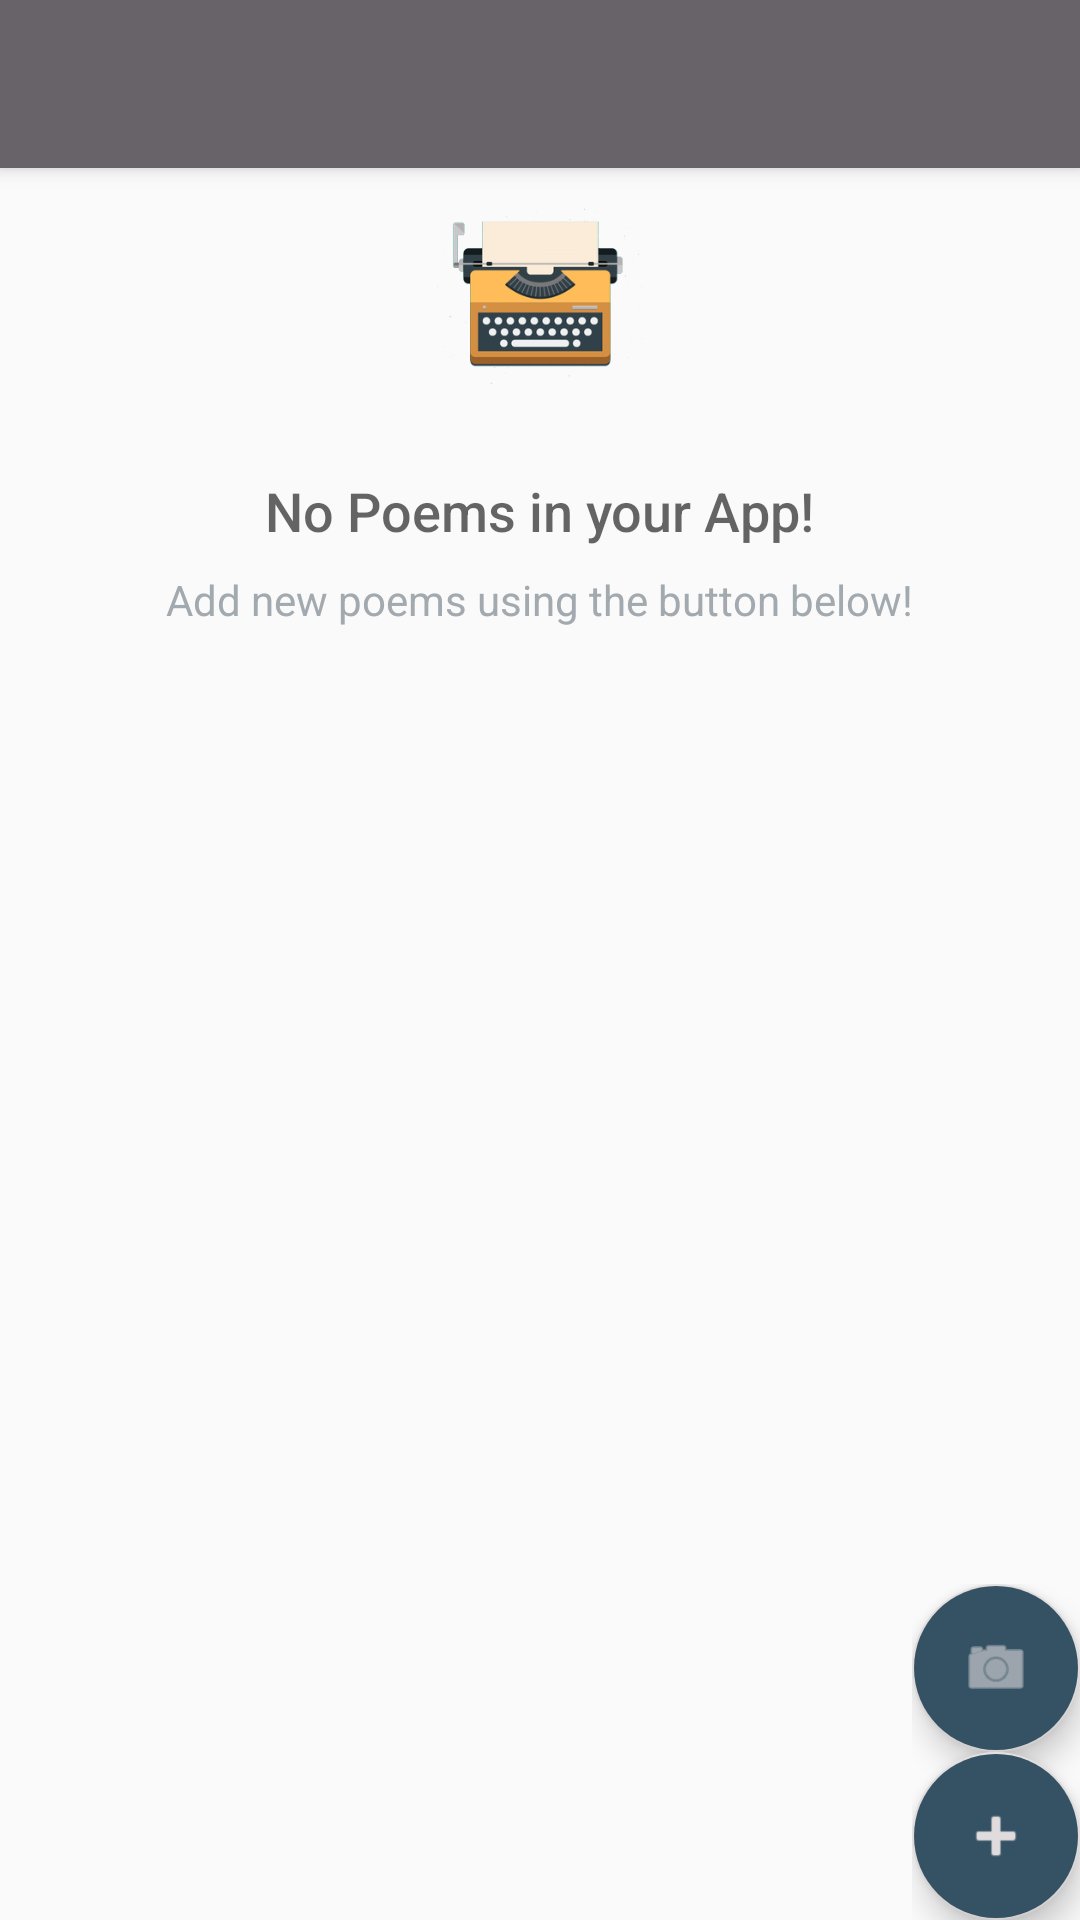

Screen size 1080 × 1920. Icon name, then its box in pixels as (x1, y1, x2, y2):
add: (912, 1752, 1080, 1920)
camera: (912, 1584, 1080, 1752)
typewriter: (449, 209, 639, 384)
